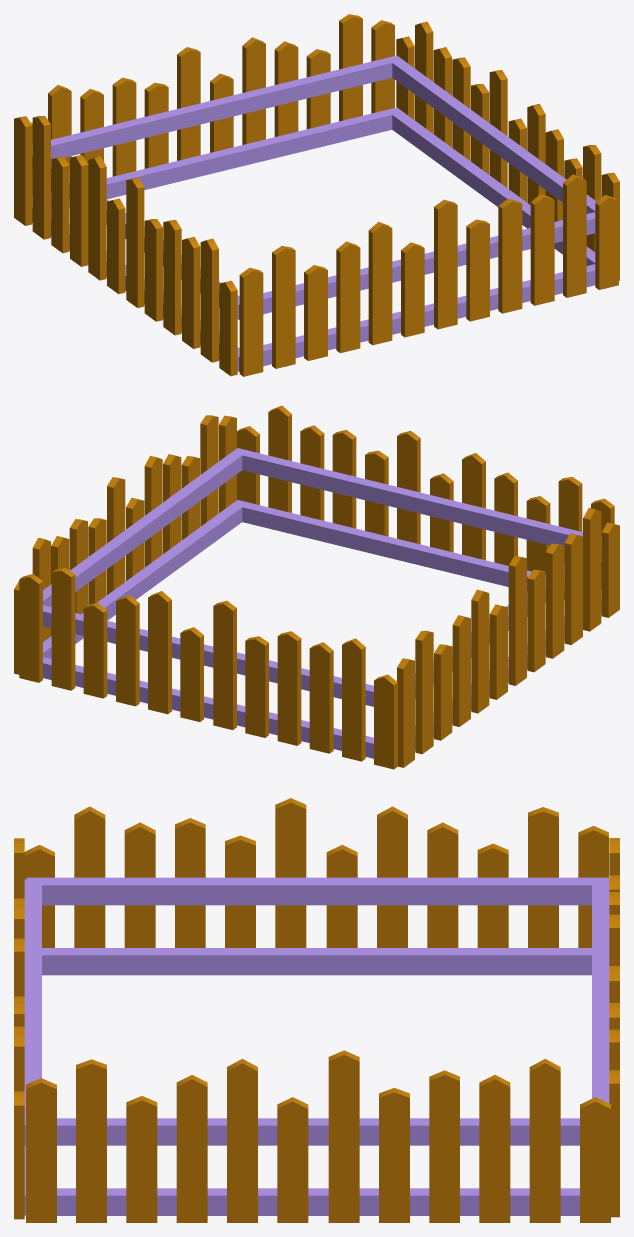
The model's file is fence.fbx.
3 views of the same model, one above another, from view 1: azimuth 30°, elevation 25°; view 2: azimuth 150°, elevation 25°; view 3: azimuth 270°, elevation 25° (orthographic). The views are drawn at different scales.
Parts seen in each view (by area): view 1: Box003, Box001, Box002, Box004; view 2: Box001, Box003, Box002, Box004; view 3: Box004, Box002, Box001, Box003.
Part boxes in pixels (x1,y1,x2,y2): Box003: (237, 174, 618, 376); Box001: (30, 14, 400, 209); Box002: (14, 116, 239, 376); Box004: (392, 21, 619, 280); Box001: (19, 568, 397, 769); Box003: (231, 405, 614, 600); Box002: (397, 507, 619, 767); Box004: (14, 415, 243, 674); Box004: (26, 1050, 610, 1222); Box002: (24, 798, 608, 975); Box001: (592, 838, 619, 1217); Box003: (14, 838, 41, 1219).
Size of the model in its own units: 514 by 157 by 513.
